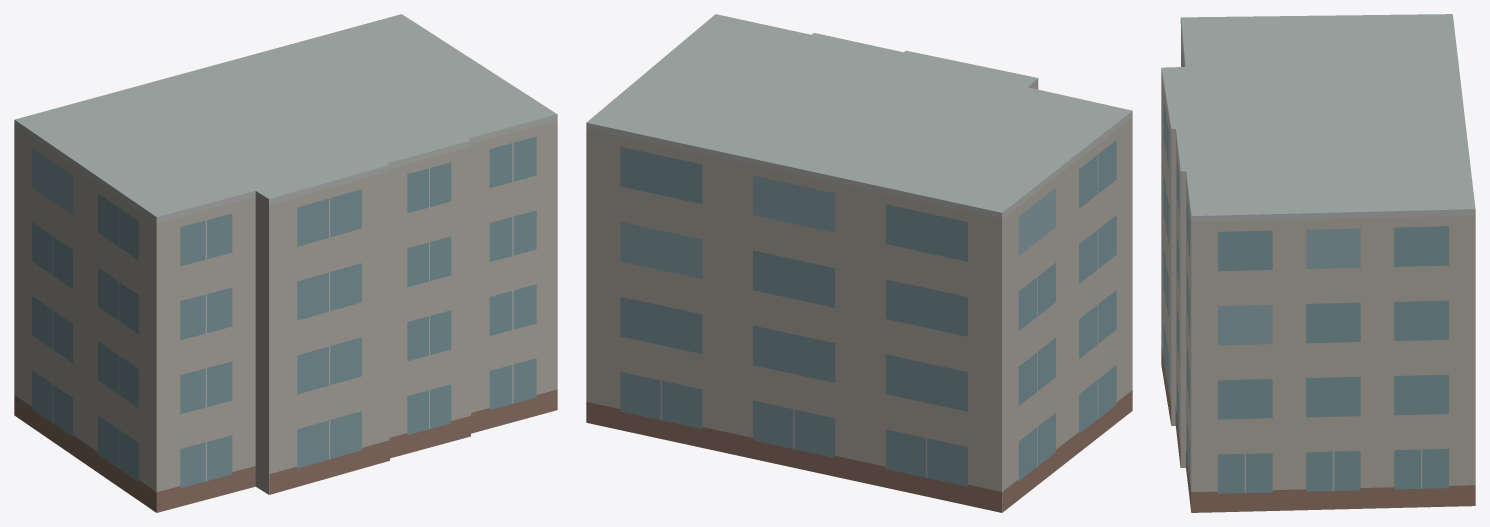
The model's file is survey-upis-32737443.glb.
The picture shows the model from 3 angles, left to right: view 1: azimuth 30°, elevation 25°; view 2: azimuth 150°, elevation 25°; view 3: azimuth 270°, elevation 25°; orthographic projection.
Parts seen in each view (by area): view 1: survey-upis-32737443.tmp; view 2: survey-upis-32737443.tmp; view 3: survey-upis-32737443.tmp.
Part boxes in pixels (<box>): survey-upis-32737443.tmp: <box>14,14,557,512</box>; survey-upis-32737443.tmp: <box>586,14,1132,512</box>; survey-upis-32737443.tmp: <box>1161,14,1475,512</box>.
Bounding box in the file's own units: 16.81 × 11.5 × 11.04.
